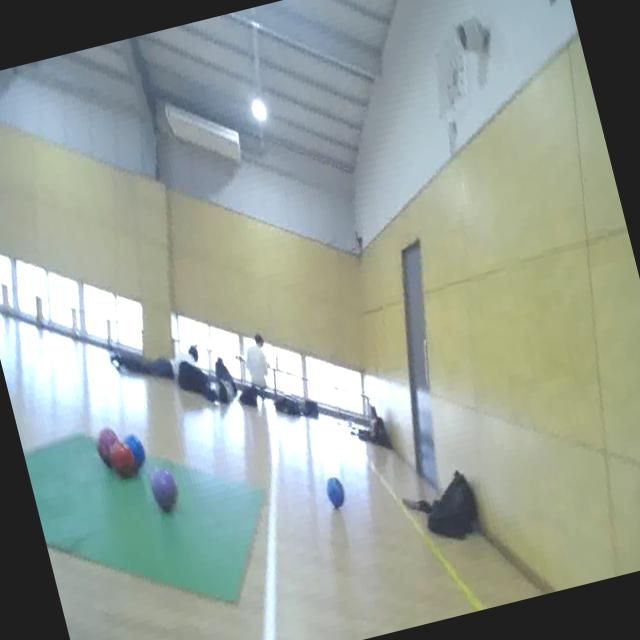blue_ball: (120, 424, 151, 472), (322, 471, 349, 512)
purple_ball: (144, 460, 184, 516)
red_ball: (89, 415, 128, 475), (106, 439, 138, 485)
